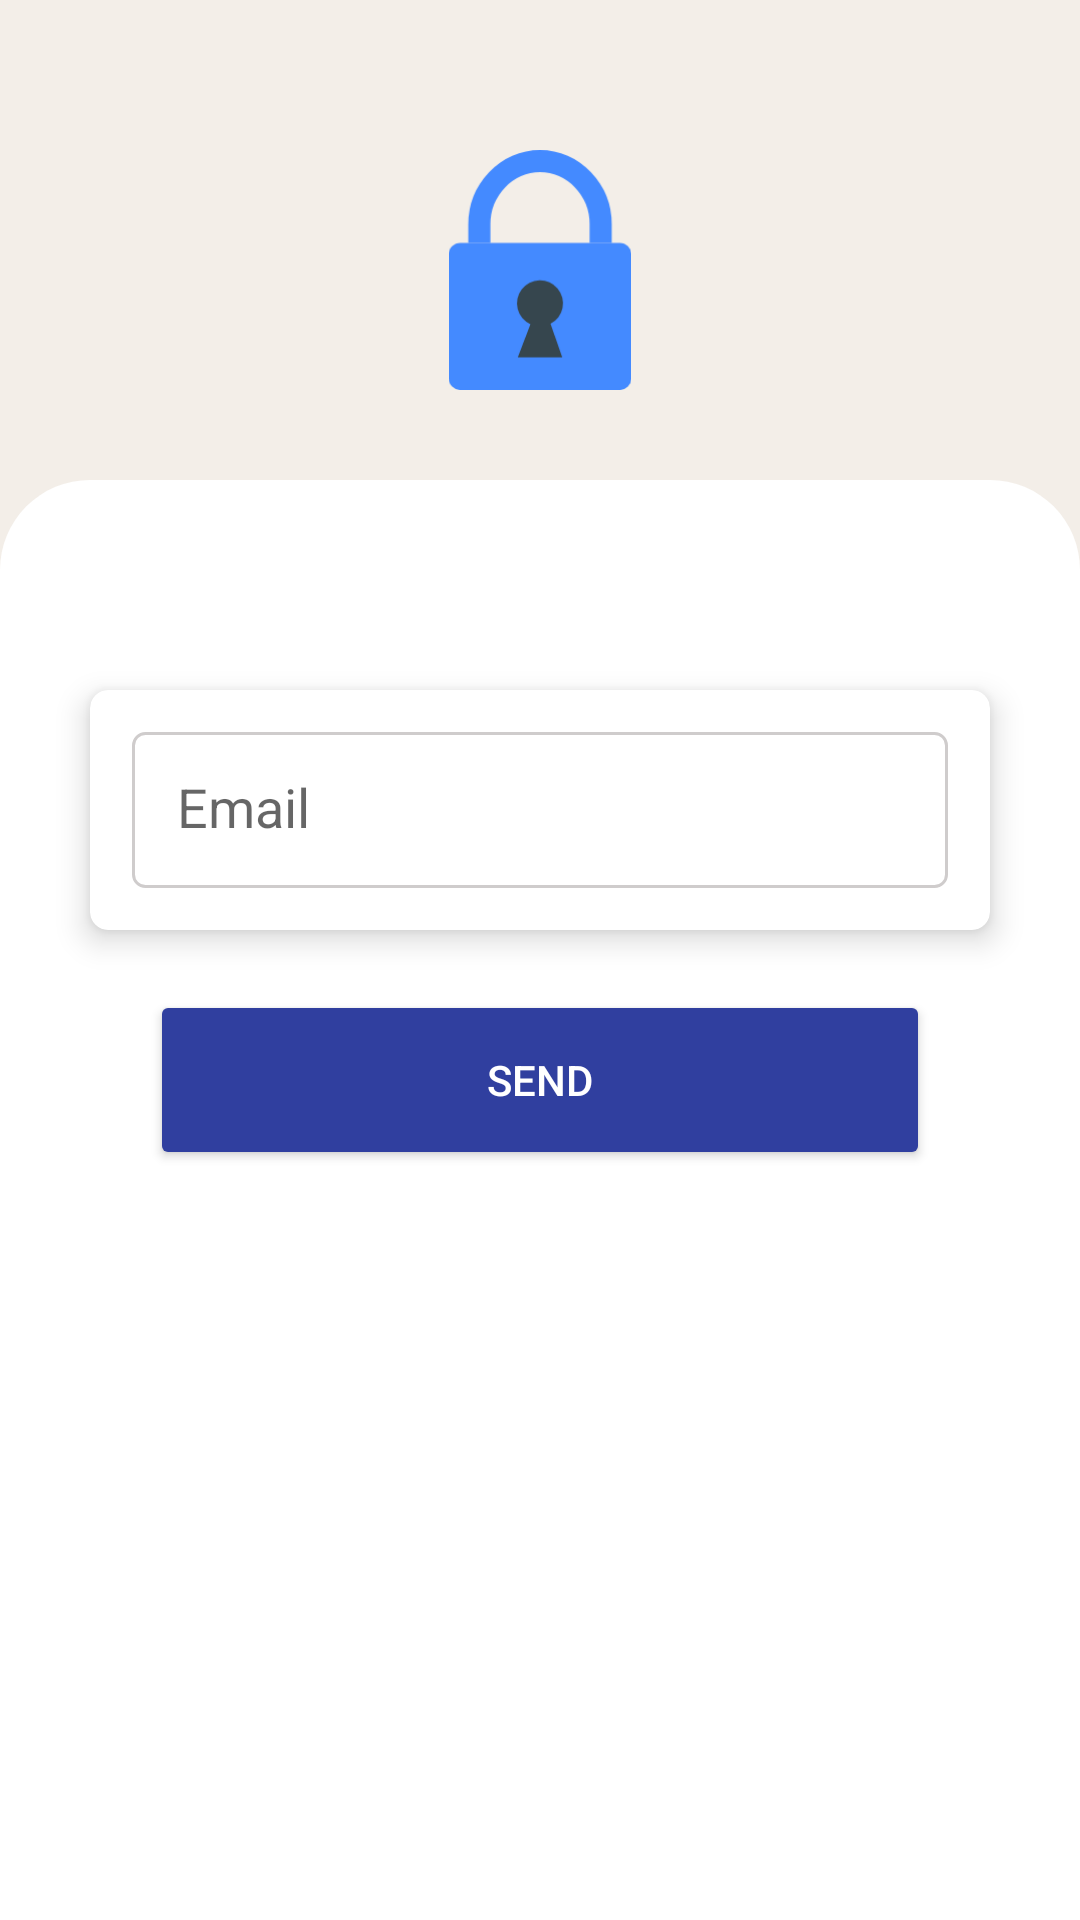

Where to tap for icons on this 1080×1920 app screen, as (x=x, y=y):
padlock: (x=540, y=270)
